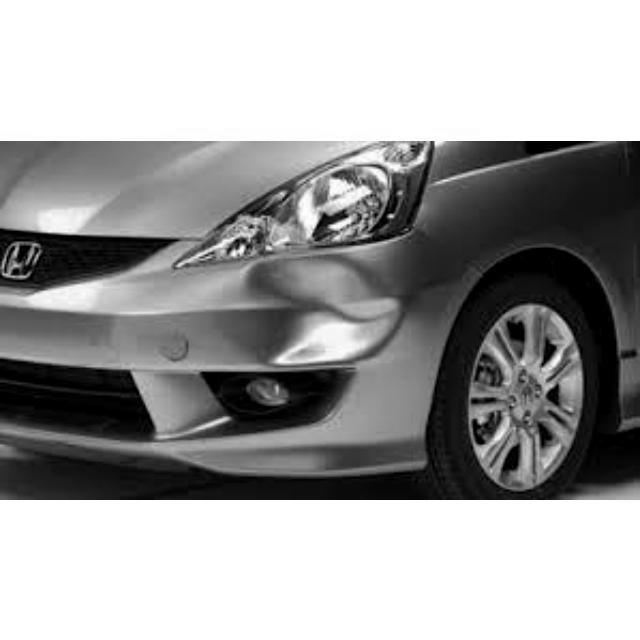front-bumper-dent: (75, 256, 473, 412)
